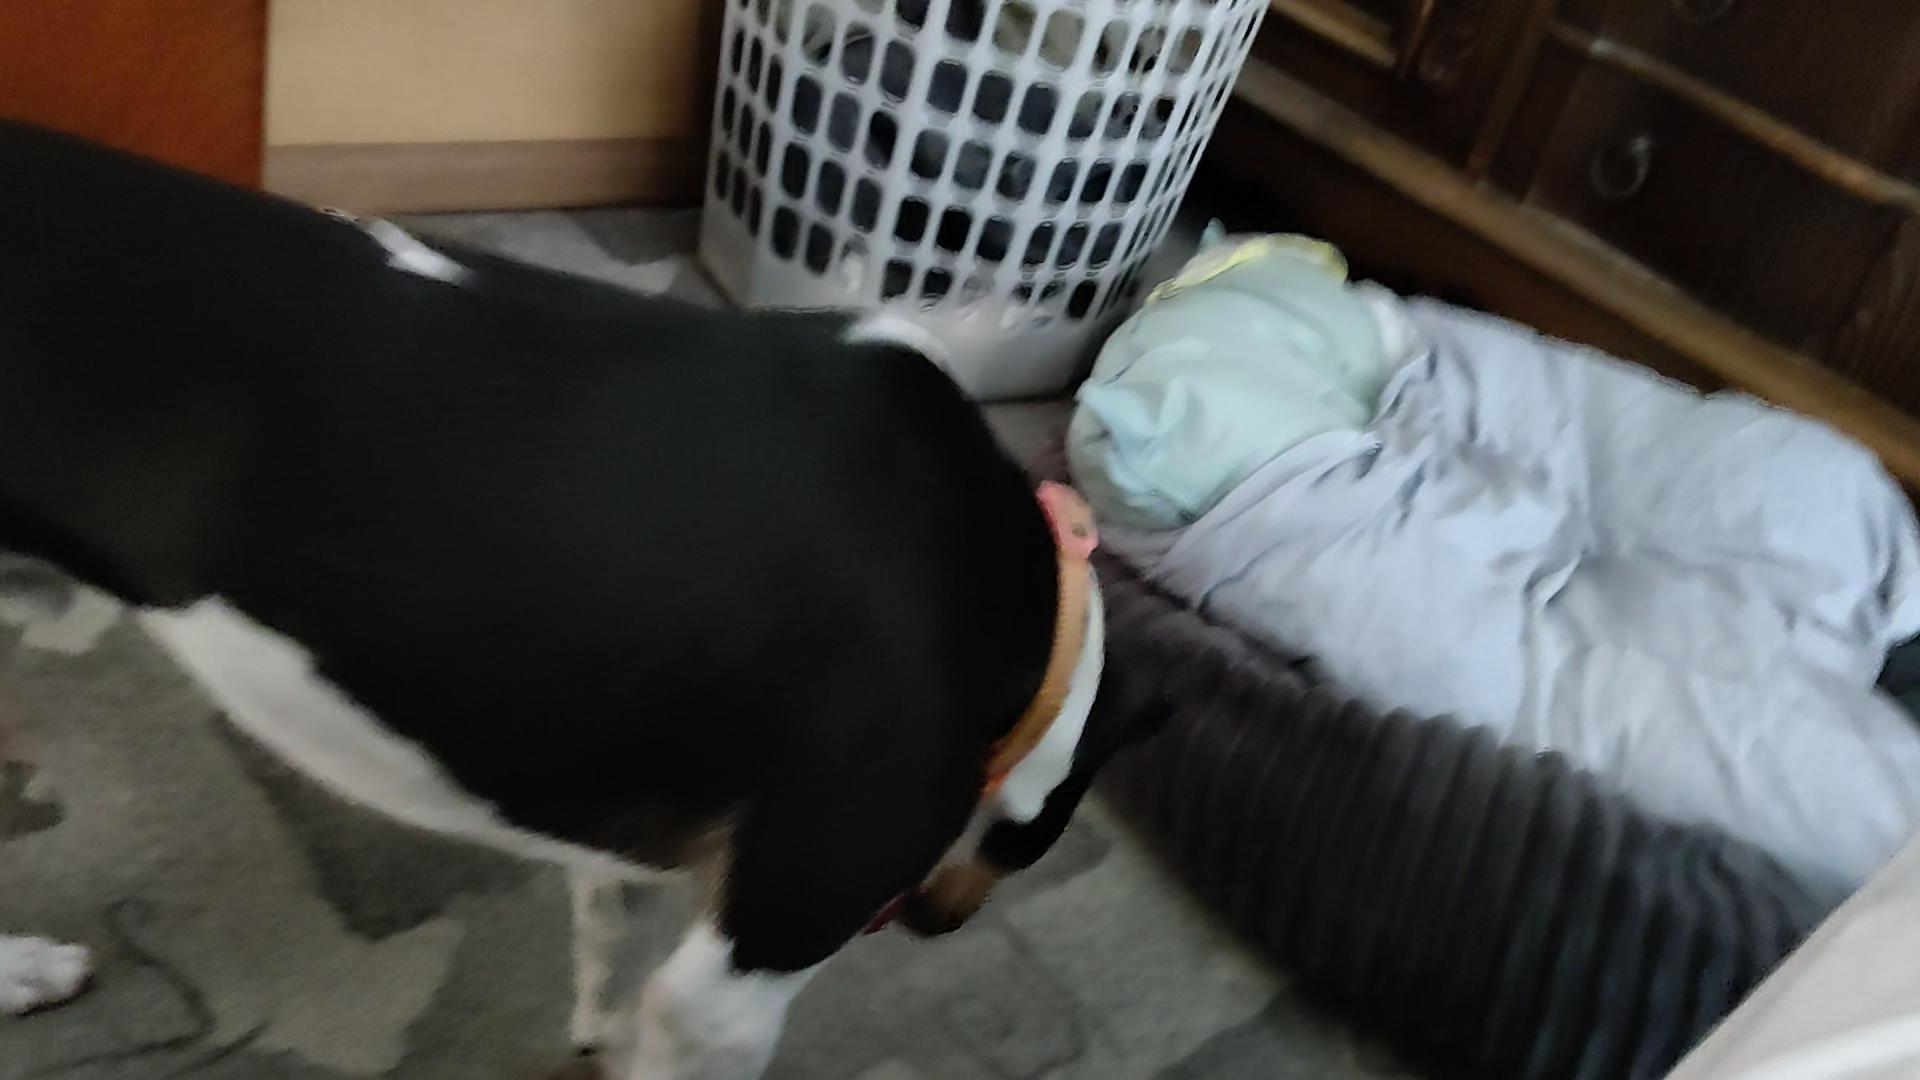Dog: (0, 102, 1193, 1079)
